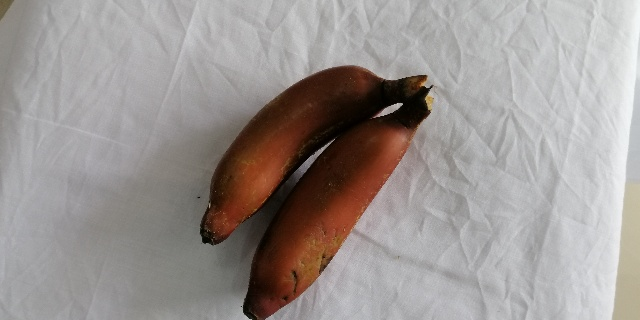banana_red: (242, 85, 432, 319), (198, 64, 429, 244)
